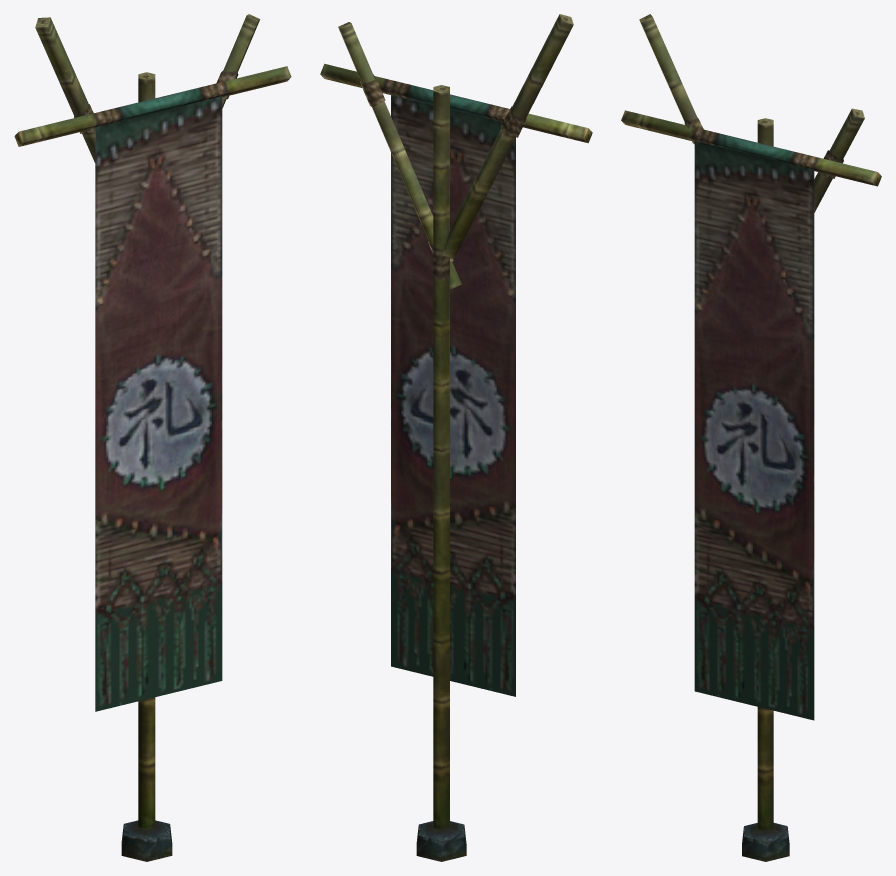
File: ZZL_Item_04.FBX
3 views of the same model, side by side, from view 1: azimuth 30°, elevation 25°; view 2: azimuth 150°, elevation 25°; view 3: azimuth 330°, elevation 25° (orthographic). The views are drawn at different scales.
Visible parts, largest first — view 1: ZZL_Item_04; view 2: ZZL_Item_04; view 3: ZZL_Item_04.
Part boxes in pixels (x1,y1,x2,y2): ZZL_Item_04: (14,14,291,861); ZZL_Item_04: (320,14,592,861); ZZL_Item_04: (621,14,881,861).
Bounding box in the file's own units: 106 × 327 × 19.8.
Materials: 1 (1 with a texture image).
